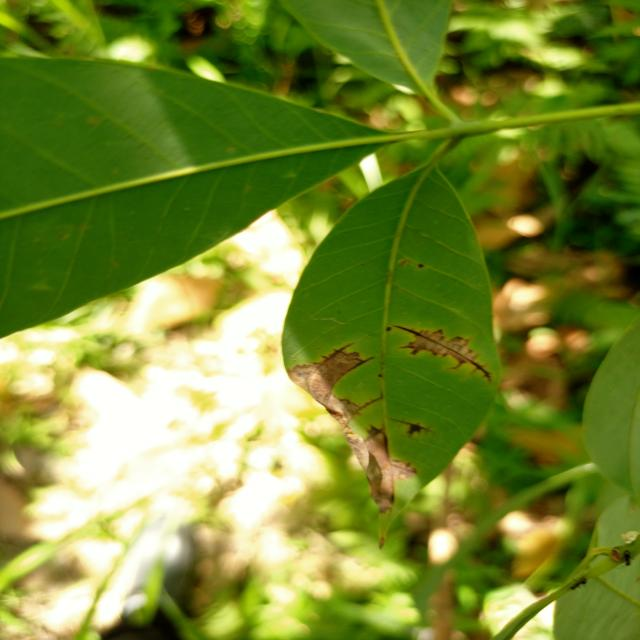Colletotrichum: (385, 326, 392, 332), (418, 264, 424, 268)
Corynespora: (394, 324, 490, 381), (390, 417, 435, 438), (353, 394, 385, 414), (321, 344, 353, 363), (348, 356, 376, 371), (364, 425, 386, 442)
Leaf-Blight: (287, 353, 418, 514)
